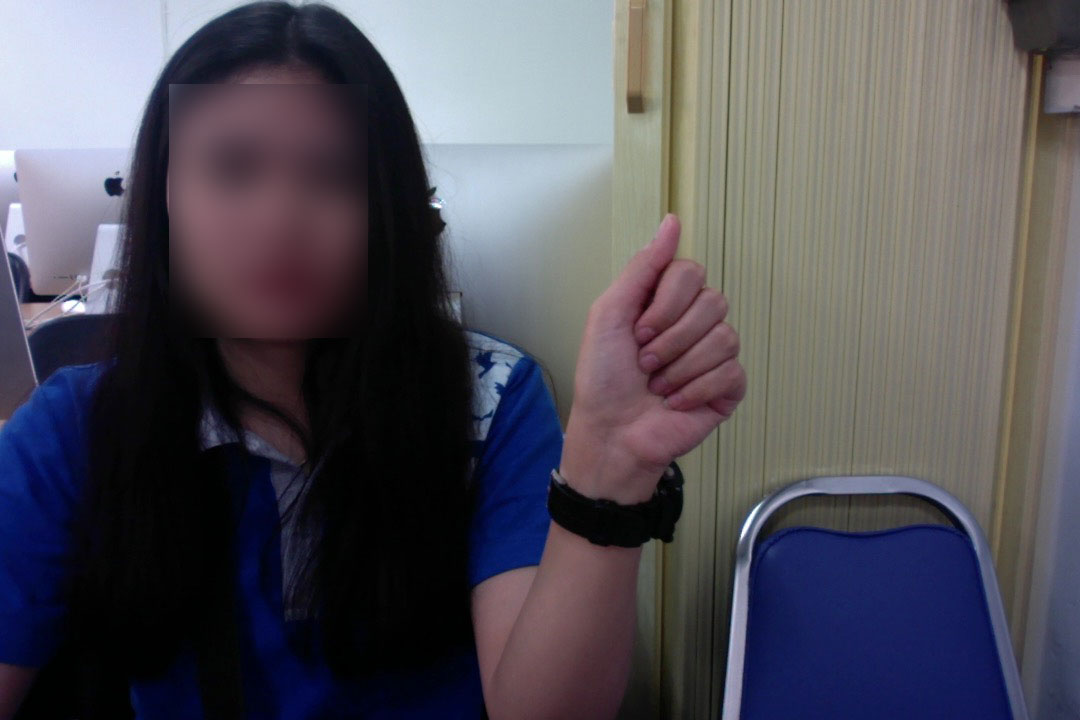or: (556, 202, 752, 468)
